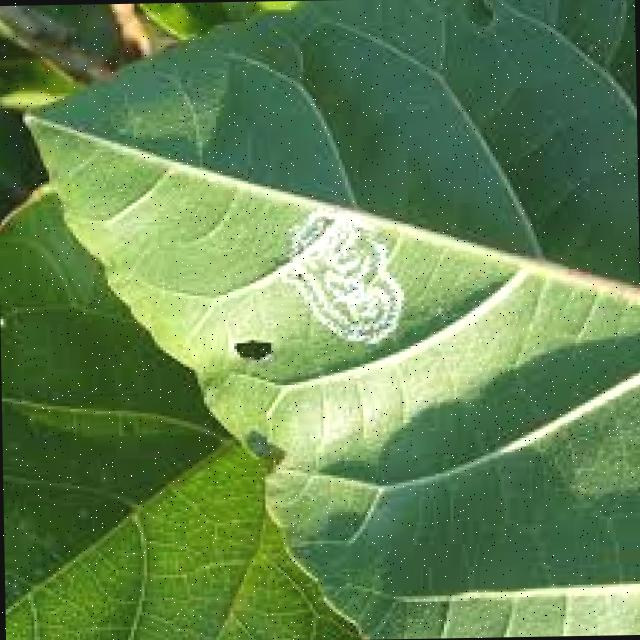whitefly: (278, 202, 405, 348)
